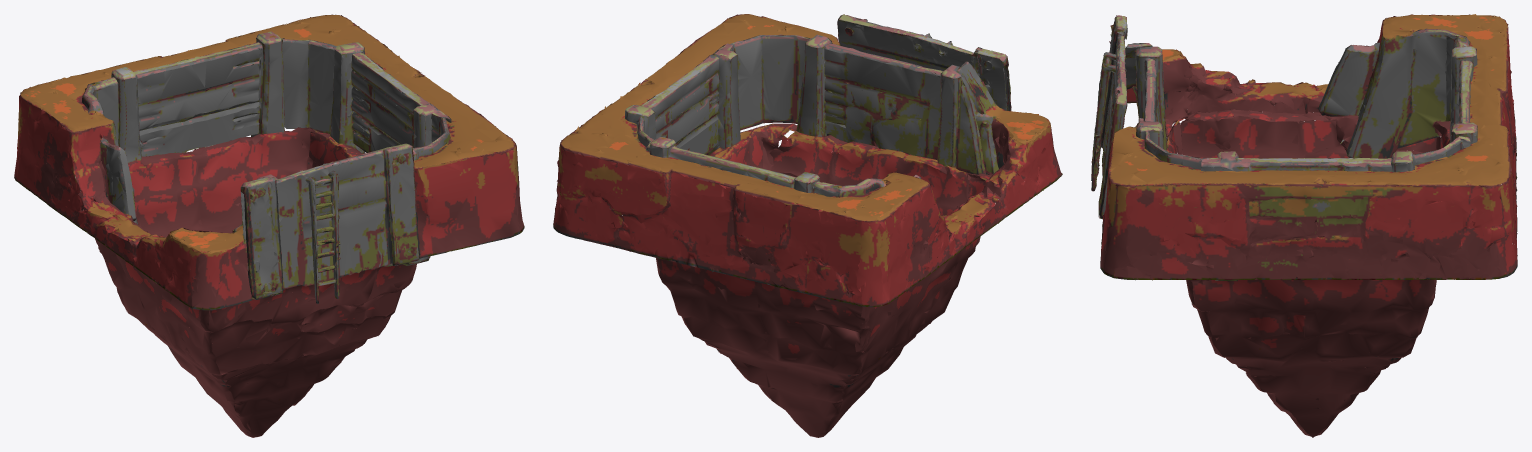
The model's file is grunt-regolit-4.fbx.
The picture shows the model from 3 angles, left to right: view 1: azimuth 30°, elevation 25°; view 2: azimuth 150°, elevation 25°; view 3: azimuth 270°, elevation 25°; orthographic projection. The views are drawn at different scales.
Visible parts, largest first — view 1: geometry_0; view 2: geometry_0; view 3: geometry_0.
Boxes of the visible parts, bbox=[...] form: geometry_0: bbox=[14, 14, 524, 437]; geometry_0: bbox=[553, 14, 1062, 437]; geometry_0: bbox=[1091, 14, 1517, 437].
Size of the model in its own units: 197 by 191 by 200.
1 material, 1 textured.
